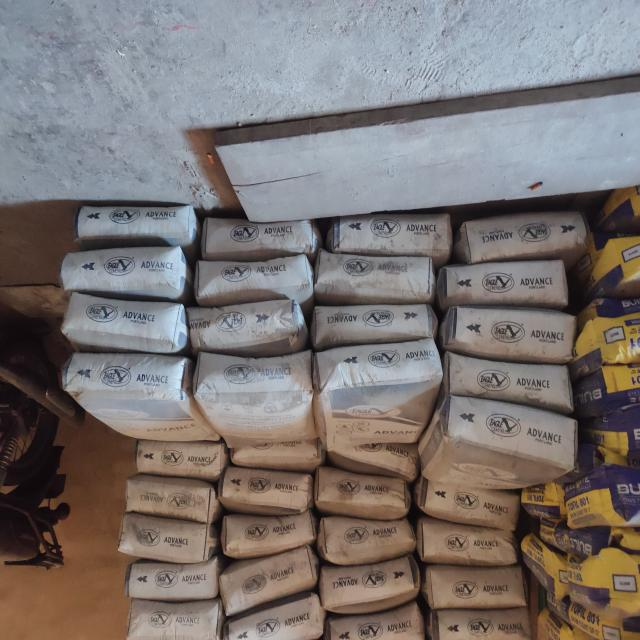Cement: (67, 358, 197, 454), (313, 353, 441, 443), (204, 364, 318, 456), (437, 413, 571, 485), (59, 300, 189, 356), (190, 300, 307, 360), (448, 261, 568, 308), (316, 257, 436, 304), (195, 257, 315, 304), (65, 249, 185, 296), (313, 307, 433, 349), (452, 362, 572, 404), (454, 315, 574, 357), (77, 204, 195, 246), (203, 219, 321, 261), (336, 215, 454, 257), (467, 219, 585, 261), (220, 558, 318, 598), (319, 569, 417, 609), (425, 569, 523, 609), (420, 526, 518, 566), (325, 439, 424, 477), (321, 520, 414, 560), (222, 516, 315, 556), (113, 524, 206, 564), (124, 482, 217, 522), (131, 445, 224, 485), (222, 469, 315, 509), (316, 477, 409, 517), (427, 486, 520, 526), (126, 603, 222, 639), (123, 565, 219, 601), (232, 605, 328, 640), (435, 607, 529, 640), (331, 611, 425, 640)
